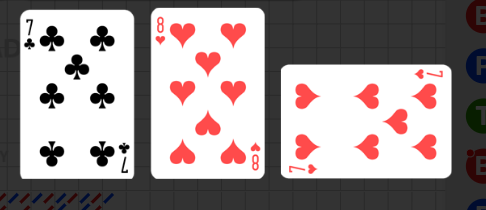7C: (116, 140, 131, 174)
7H: (412, 67, 444, 80), (287, 162, 318, 175)
